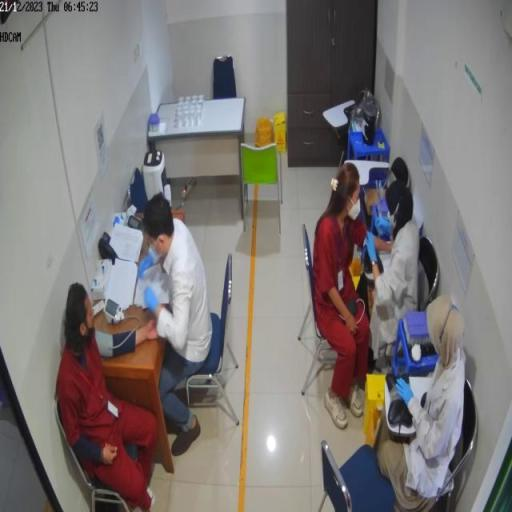person: (57, 282, 159, 512), (138, 193, 213, 457), (375, 295, 466, 512), (313, 163, 369, 432), (367, 180, 422, 365)
